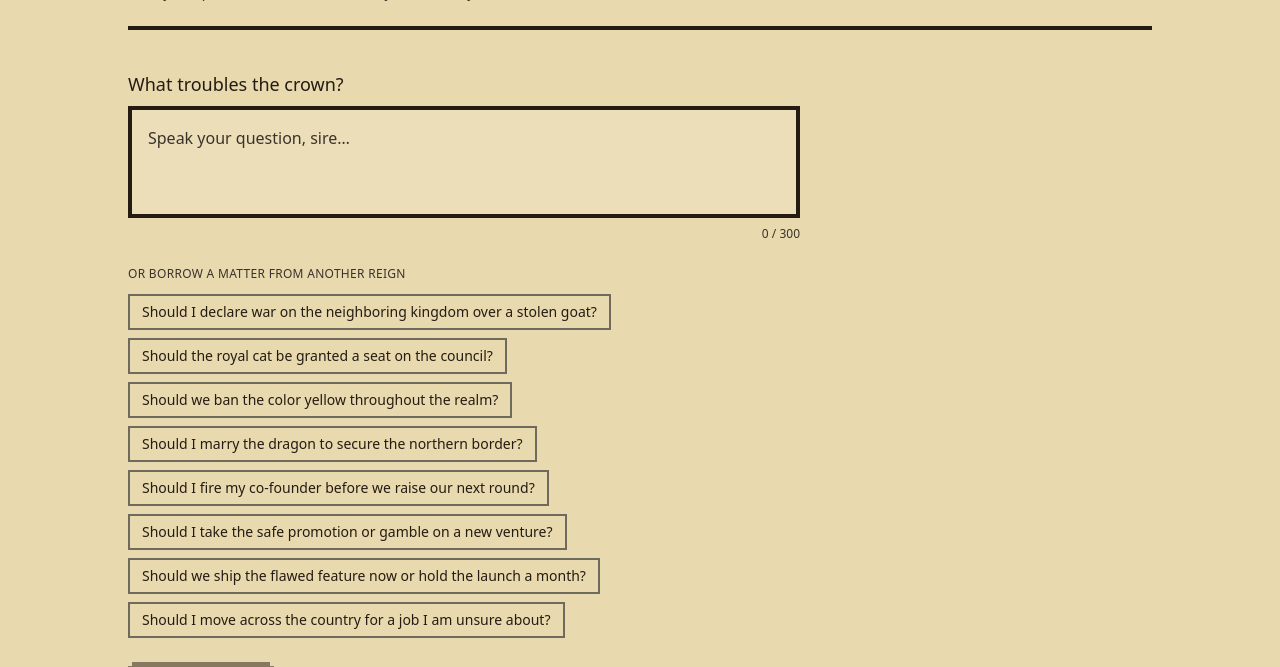
Test: AudienceNew — seating board (T-16) › gates convening on a legal 3–5 council
This screenshot has width=1280, height=667.
Type "Should I take the Duke of Harrow up on his offer?" into the text box at (464, 162), box left=128, top=106, right=800, bottom=218
(page scrolled)
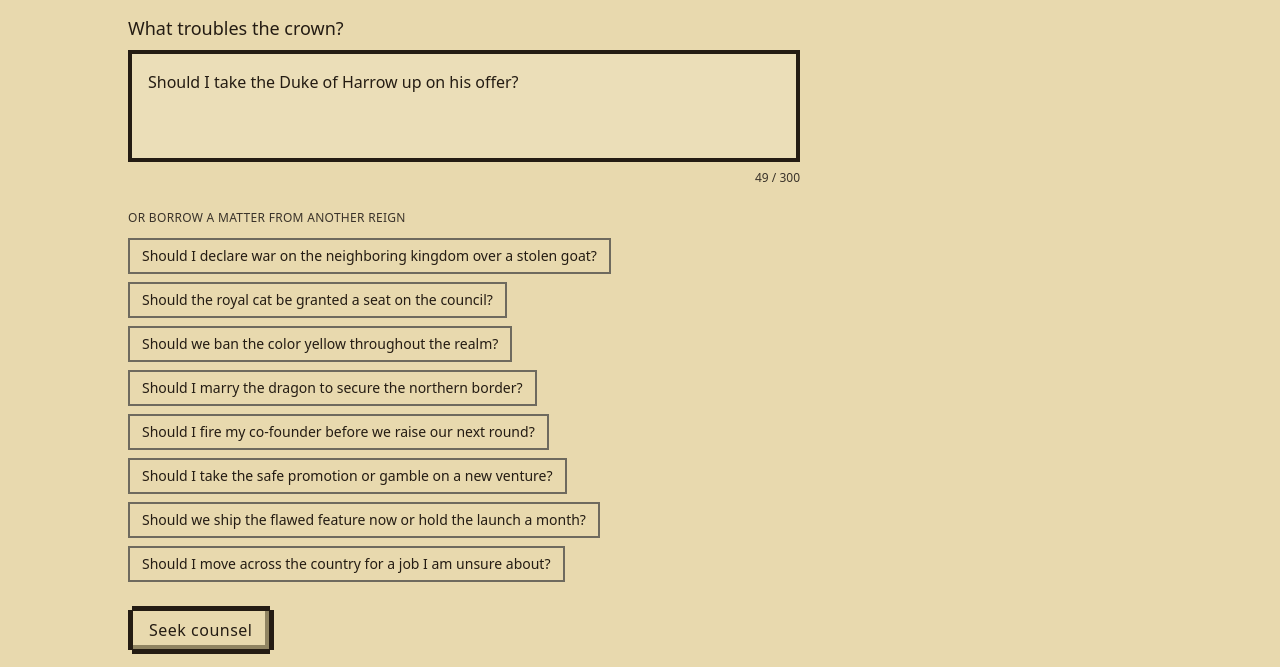
Click the button "Seek counsel" at (201, 630), box left=132, top=610, right=270, bottom=650
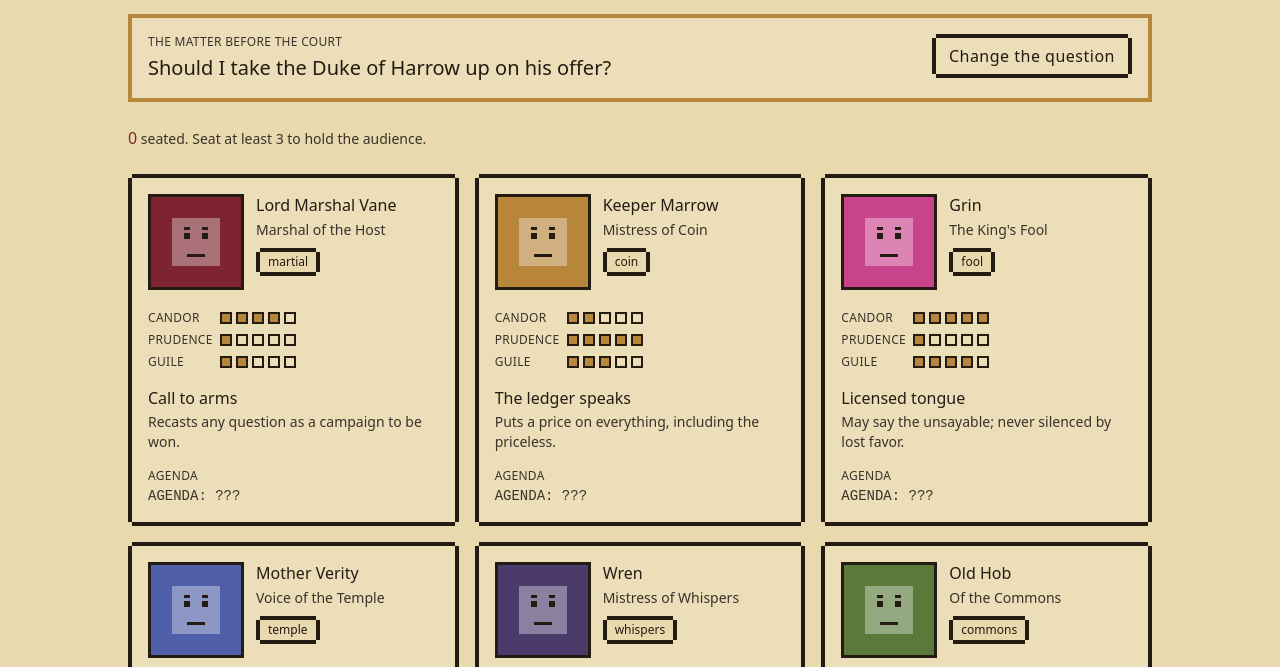
Click the option "Lord Marshal Vane" at (196, 242), box left=132, top=178, right=455, bottom=522
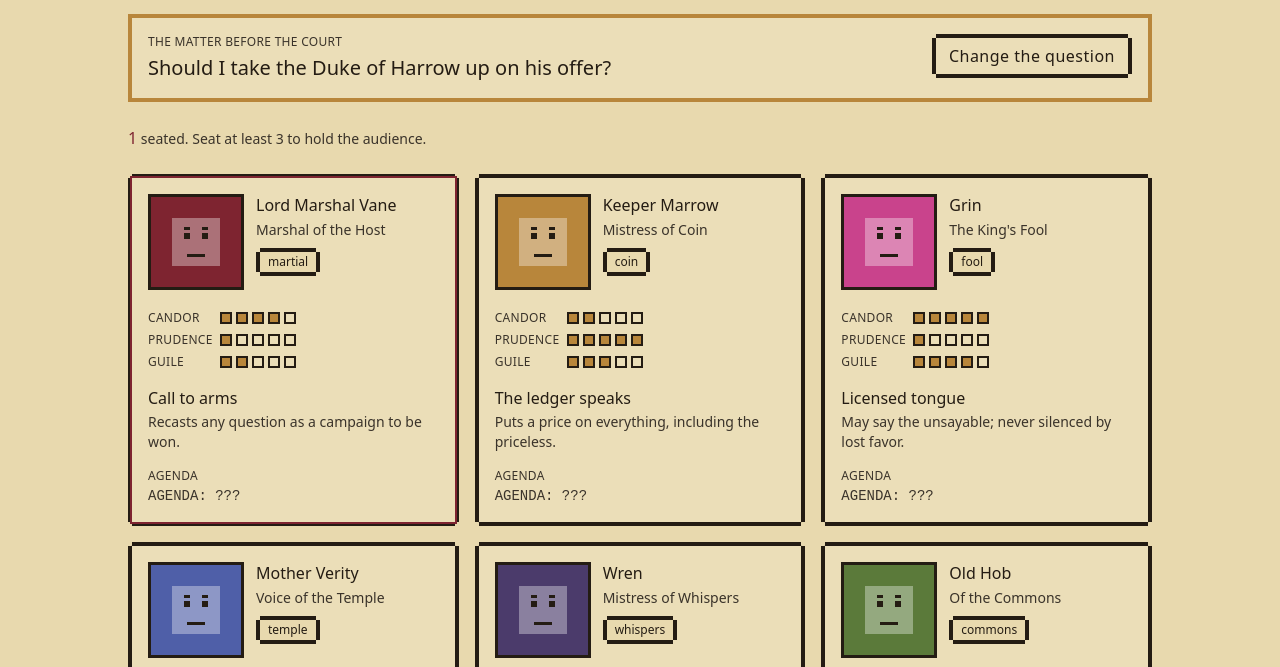
Click the option "Keeper Marrow" at (543, 242), box left=479, top=178, right=801, bottom=522
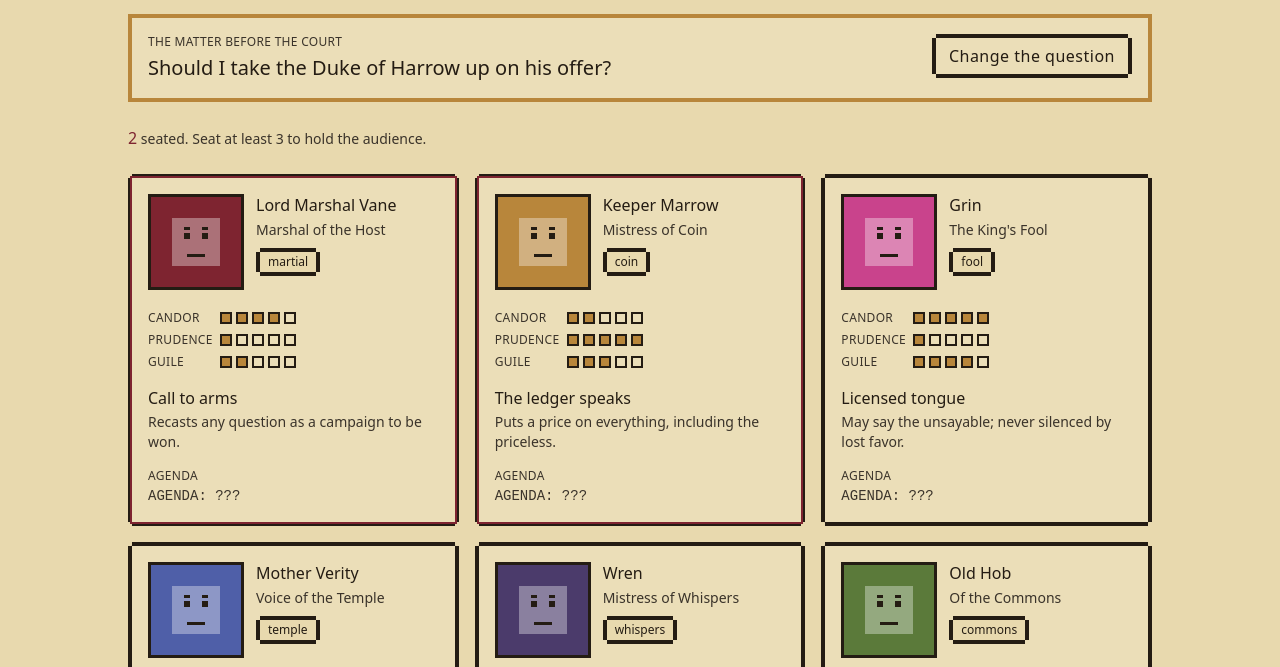
Click the option "Grin" at (889, 242), box left=825, top=178, right=1148, bottom=522
(page scrolled)
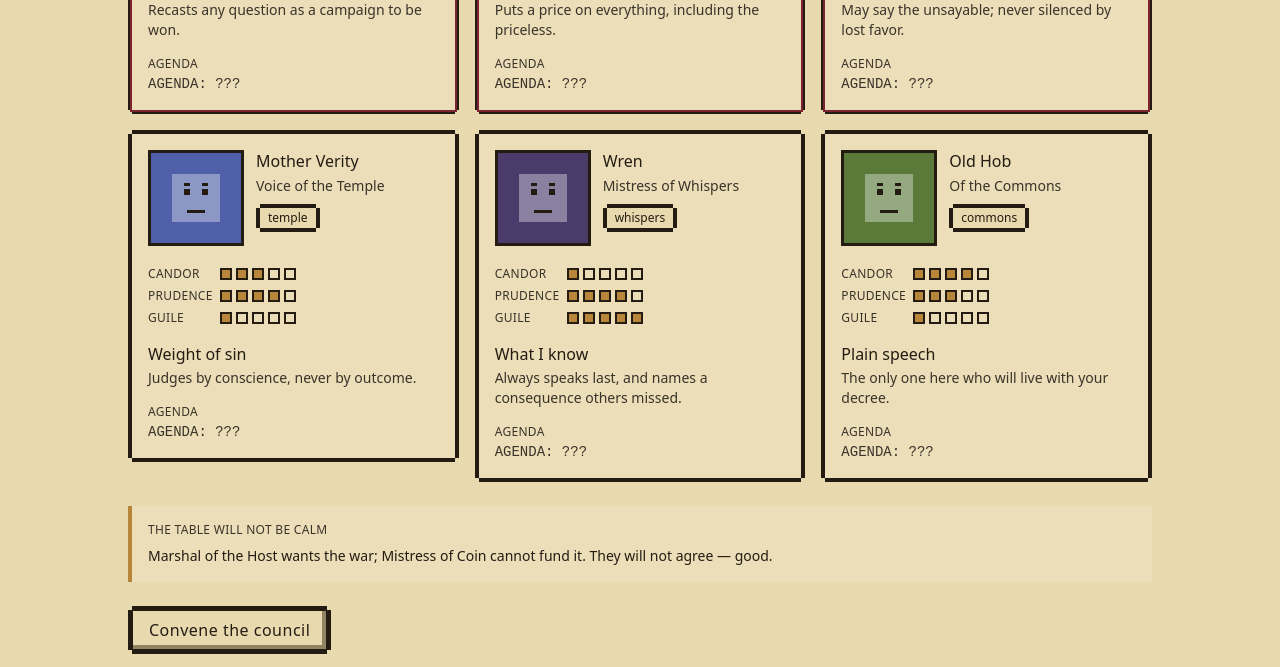
expect the button "Convene the council" is enabled: met, box left=132, top=610, right=327, bottom=650
